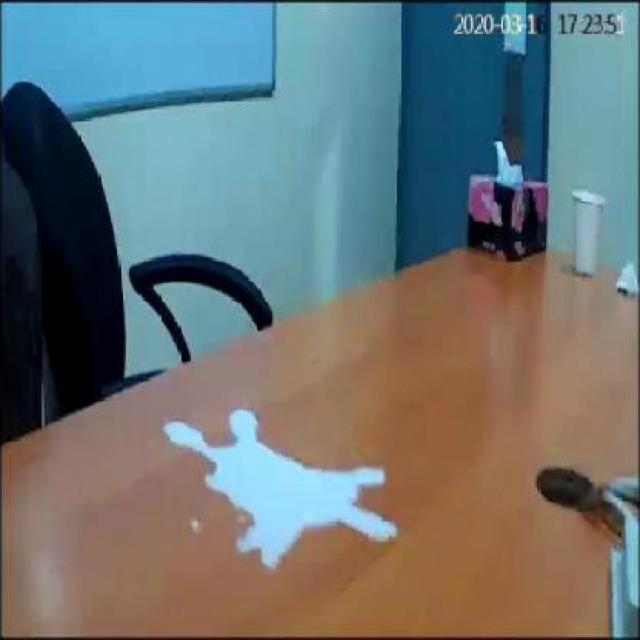spillage: (161, 411, 395, 569)
